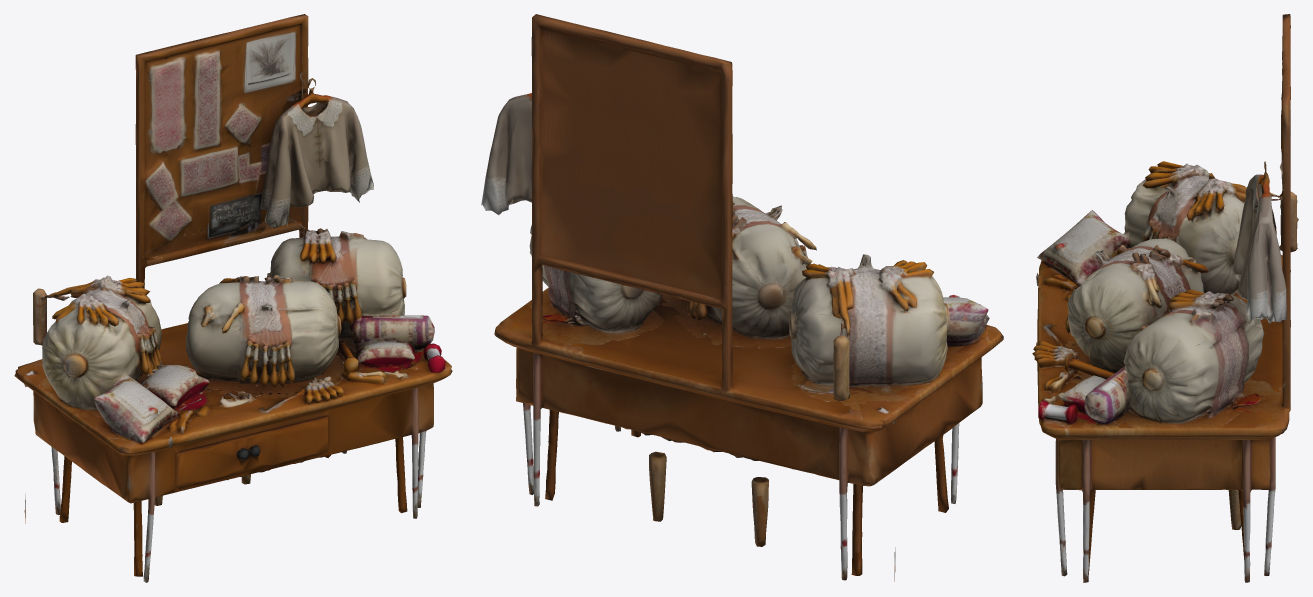
File: Workshop.fbx
The picture shows the model from 3 angles, left to right: view 1: azimuth 30°, elevation 25°; view 2: azimuth 150°, elevation 25°; view 3: azimuth 270°, elevation 25°; orthographic projection. The views are drawn at different scales.
Visible parts, largest first — view 1: Workshop; view 2: Workshop; view 3: Workshop.
Boxes of the visible parts, x1,y1,x2,y2 form: Workshop: (14, 14, 452, 582); Workshop: (481, 14, 1003, 581); Workshop: (1032, 14, 1298, 582).
Bounding box in the file's own units: 166 × 191 × 98.6.
Materials: 1 (1 with a texture image).
